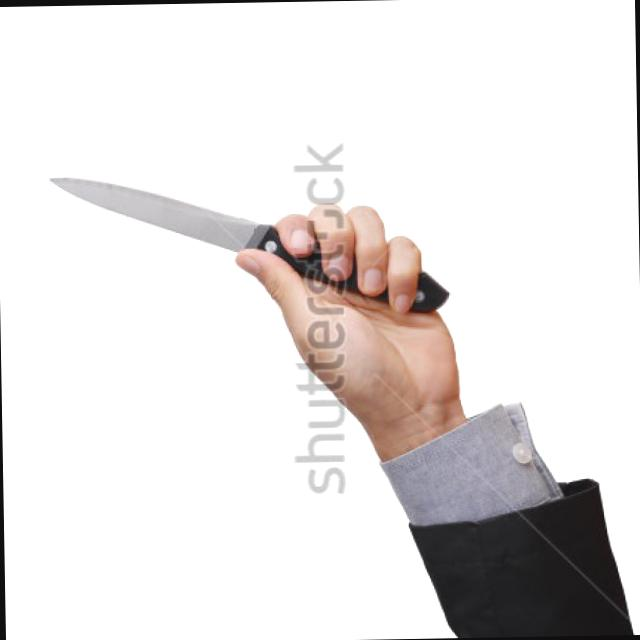knife: (36, 164, 387, 301)
